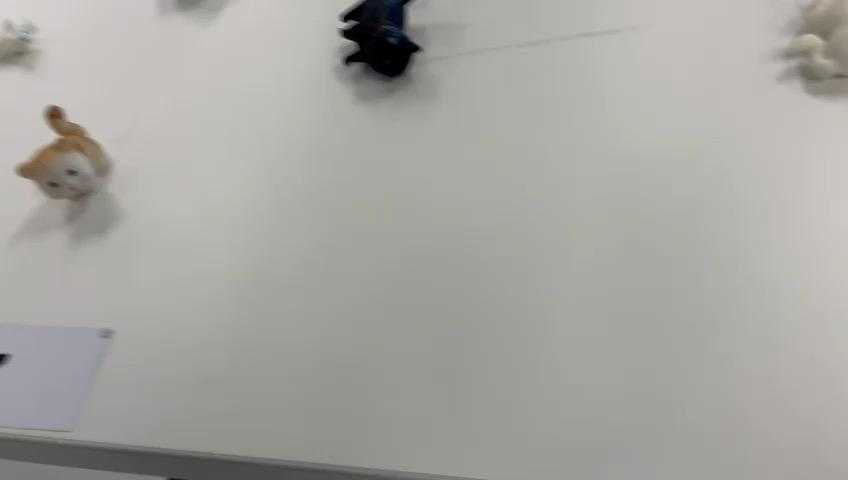pet: (306, 0, 433, 105), (13, 99, 108, 224)
